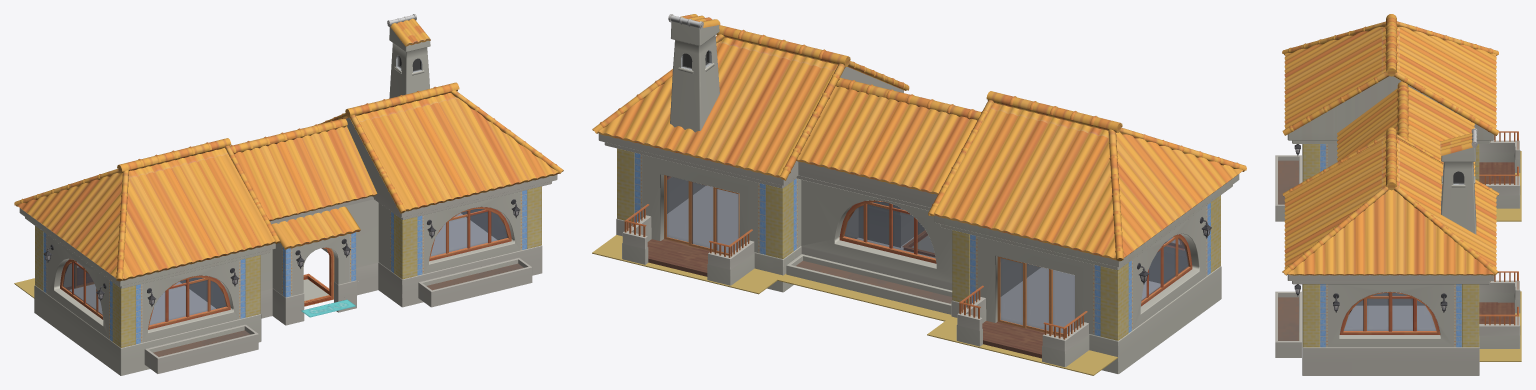
The model's file is objects_un_t02house03.gltf.
The picture shows the model from 3 angles, left to right: view 1: azimuth 30°, elevation 25°; view 2: azimuth 150°, elevation 25°; view 3: azimuth 270°, elevation 25°; orthographic projection. The views are drawn at different scales.
Parts seen in each view (by area): view 1: nomerge_roof_shape:objects_un_t02house03_roof01, nomerge_wall_shape:objects_un_t02house03_wall01, um_objects_un_t02house03_model_lod0Shape:objects_un_t02house (×3), nomerge_block_shape:objects_un_t02house03_01, um_objects_un_t02house03_model_lod1Shape:objects_un_t02house (×2), um_objects_un_t02house03_model_lod2Shape:objects_un_t02house (×2), nomerge_tile_shape:objects_un_t02house03_walltile01, um_objects_un_t02house03_model_lod0Shape:objects_un_t01house; view 2: nomerge_roof_shape:objects_un_t02house03_roof01, nomerge_wall_shape:objects_un_t02house03_wall01, um_objects_un_t02house03_model_lod0Shape:objects_un_t02house (×2), nomerge_block_shape:objects_un_t02house03_01, um_objects_un_t02house03_model_lod1Shape:objects_un_t02house, um_objects_un_t02house03_model_lod2Shape:objects_un_t02house (×2), nomerge_tile_shape:objects_un_t02house03_walltile01; view 3: nomerge_roof_shape:objects_un_t02house03_roof01, nomerge_wall_shape:objects_un_t02house03_wall01, um_objects_un_t02house03_model_lod0Shape:objects_un_t02house (×2), nomerge_block_shape:objects_un_t02house03_01, um_objects_un_t02house03_model_lod1Shape:objects_un_t02house (×2), um_objects_un_t02house03_model_lod2Shape:objects_un_t02house (×2), nomerge_tile_shape:objects_un_t02house03_walltile01, um_objects_un_t02house03_model_lod0Shape:objects_un_t01house.
Boxes of the visible parts, x1,y1,x2,y2 form: nomerge_roof_shape:objects_un_t02house03_roof01: (14, 14, 563, 281); nomerge_wall_shape:objects_un_t02house03_wall01: (19, 27, 557, 375); um_objects_un_t02house03_model_lod0Shape:objects_un_t02house (×3): (14, 208, 522, 356); nomerge_block_shape:objects_un_t02house03_01: (35, 55, 541, 347); um_objects_un_t02house03_model_lod1Shape:objects_un_t02house (×2): (63, 208, 523, 355); um_objects_un_t02house03_model_lod2Shape:objects_un_t02house (×2): (60, 207, 519, 356); nomerge_tile_shape:objects_un_t02house03_walltile01: (43, 190, 527, 344); um_objects_un_t02house03_model_lod0Shape:objects_un_t01house: (43, 199, 520, 306); nomerge_roof_shape:objects_un_t02house03_roof01: (592, 14, 1246, 261); nomerge_wall_shape:objects_un_t02house03_wall01: (598, 21, 1239, 373); um_objects_un_t02house03_model_lod0Shape:objects_un_t02house (×2): (592, 175, 1192, 375); nomerge_block_shape:objects_un_t02house03_01: (617, 50, 1220, 358); um_objects_un_t02house03_model_lod1Shape:objects_un_t02house: (667, 176, 1186, 333); um_objects_un_t02house03_model_lod2Shape:objects_un_t02house (×2): (796, 200, 1190, 318); nomerge_tile_shape:objects_un_t02house03_walltile01: (634, 152, 1210, 336); nomerge_roof_shape:objects_un_t02house03_roof01: (1282, 14, 1499, 275); nomerge_wall_shape:objects_un_t02house03_wall01: (1275, 76, 1520, 375); um_objects_un_t02house03_model_lod0Shape:objects_un_t02house (×2): (1278, 151, 1521, 361); nomerge_block_shape:objects_un_t02house03_01: (1302, 131, 1518, 347); um_objects_un_t02house03_model_lod1Shape:objects_un_t02house (×2): (1278, 160, 1520, 340); um_objects_un_t02house03_model_lod2Shape:objects_un_t02house (×2): (1278, 160, 1440, 340); nomerge_tile_shape:objects_un_t02house03_walltile01: (1320, 144, 1461, 347); um_objects_un_t02house03_model_lod0Shape:objects_un_t01house: (1294, 144, 1447, 312).
Size of what is drawn, in the model's own units: 20.07 by 8.93 by 9.37.
10 materials, 10 textured.
